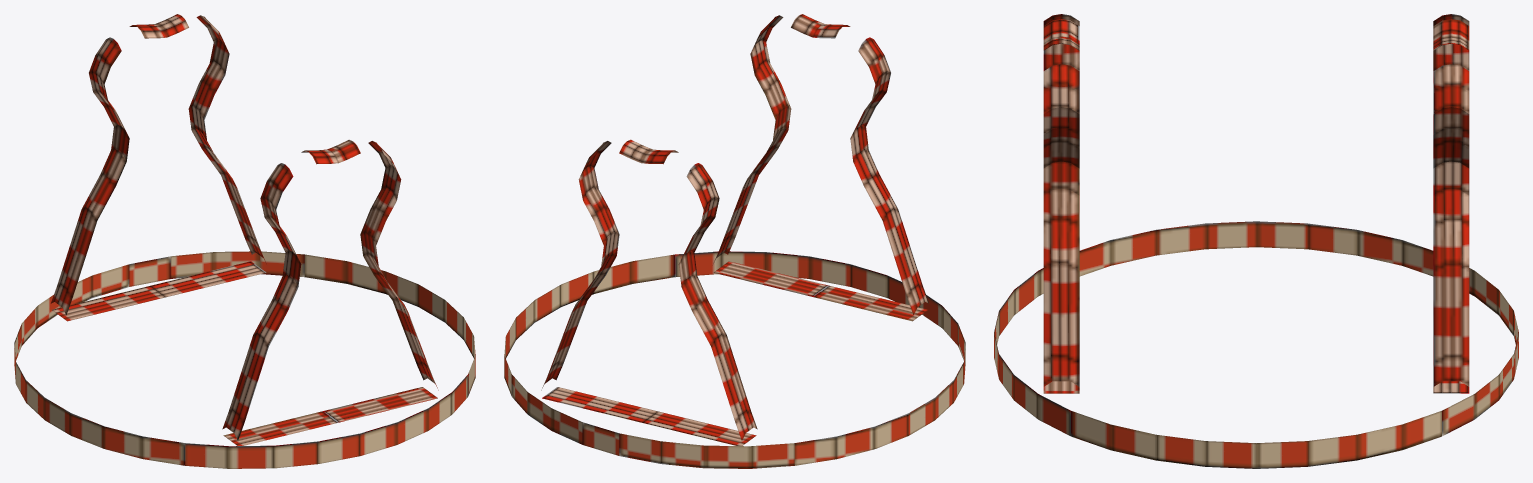
The model's file is holder.obj.
The picture shows the model from 3 angles, left to right: view 1: azimuth 30°, elevation 25°; view 2: azimuth 150°, elevation 25°; view 3: azimuth 270°, elevation 25°; orthographic projection. The views are drawn at different scales.
Parts seen in each view (by area): view 1: Wheels.002_Circle.001; view 2: Wheels.002_Circle.001; view 3: Wheels.002_Circle.001.
Part boxes in pixels (left/top/right/bottom): Wheels.002_Circle.001: left=14, top=14, right=475, bottom=468; Wheels.002_Circle.001: left=504, top=14, right=965, bottom=468; Wheels.002_Circle.001: left=994, top=14, right=1518, bottom=468.
Size of the model in its own units: 2.81 by 1.93 by 2.81.
